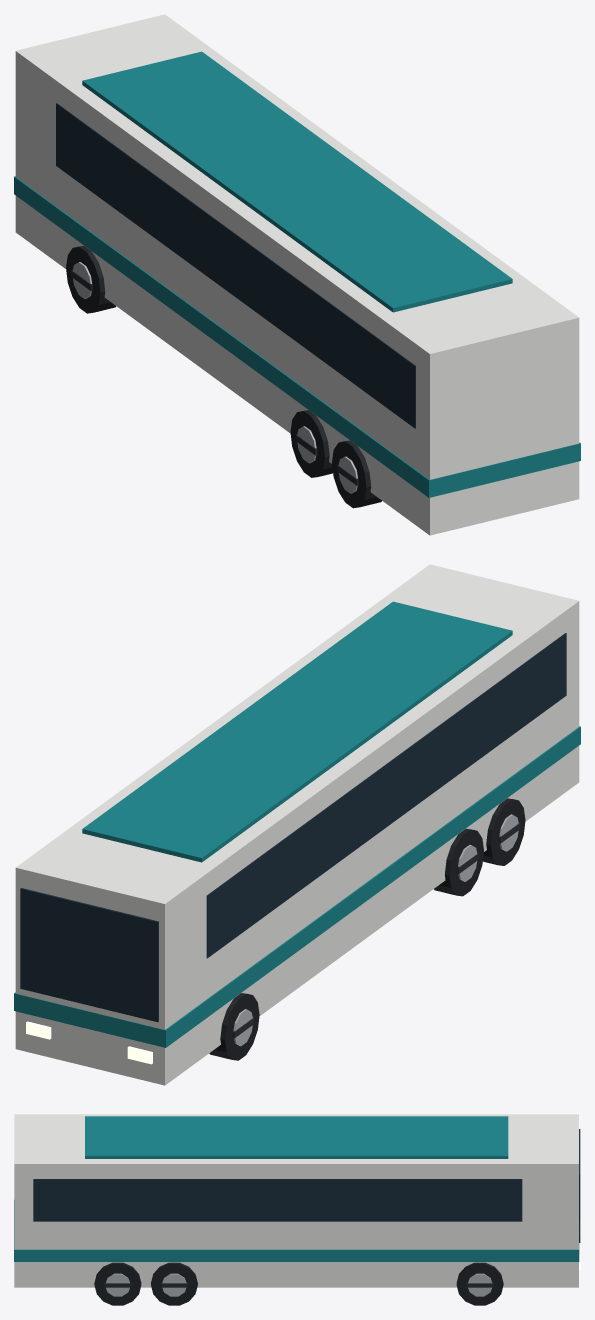
File: coach.glb
3 views of the same model, one above another, from view 1: azimuth 30°, elevation 25°; view 2: azimuth 150°, elevation 25°; view 3: azimuth 270°, elevation 25° (orthographic). The views are drawn at different scales.
Visible parts, largest first — view 1: CLCoach, CLCoach_cyl_035, CLCoach_cyl_047, CLCoach_cyl_041; view 2: CLCoach, CLCoach_cyl_035, CLCoach_cyl_041, CLCoach_cyl_047; view 3: CLCoach, CLCoach_cyl_050, CLCoach_cyl_038, CLCoach_cyl_044, CLCoach_cyl_045, CLCoach_cyl_051, CLCoach_cyl_039.
Part boxes in pixels (x1=…): CLCoach: x1=14, y1=14, x2=580, y2=535; CLCoach_cyl_035: x1=66, y1=246, x2=116, y2=313; CLCoach_cyl_047: x1=332, y1=440, x2=381, y2=508; CLCoach_cyl_041: x1=290, y1=410, x2=332, y2=477; CLCoach: x1=14, y1=564, x2=580, y2=1085; CLCoach_cyl_035: x1=209, y1=993, x2=259, y2=1060; CLCoach_cyl_041: x1=434, y1=828, x2=483, y2=896; CLCoach_cyl_047: x1=483, y1=798, x2=525, y2=865; CLCoach: x1=14, y1=1114, x2=580, y2=1287; CLCoach_cyl_050: x1=94, y1=1262, x2=141, y2=1305; CLCoach_cyl_038: x1=456, y1=1262, x2=503, y2=1305; CLCoach_cyl_044: x1=151, y1=1262, x2=197, y2=1305; CLCoach_cyl_045: x1=162, y1=1273, x2=186, y2=1296; CLCoach_cyl_051: x1=106, y1=1273, x2=129, y2=1296; CLCoach_cyl_039: x1=468, y1=1273, x2=492, y2=1296.
Bounding box in the file's own units: 2.73 × 3.36 × 12.06.
